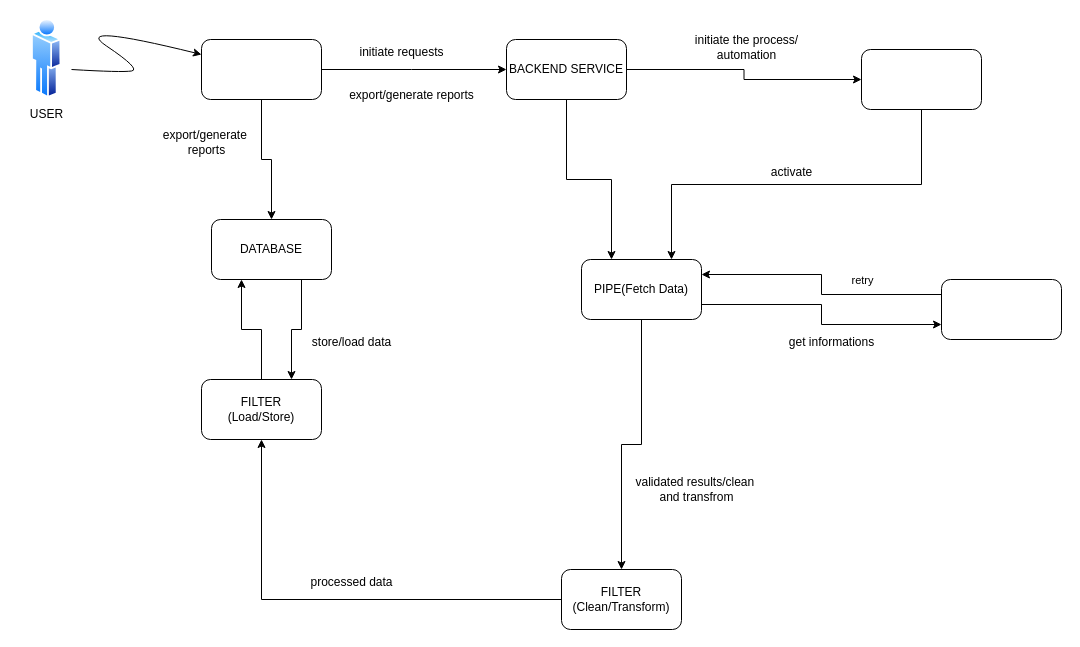
Some shapes in this 1080 by 647 pixel diagram are drawn without their labels. The box of each missing label's shape, as (x1, y1, x2, y2) in pixels:
API DATA SOURCES: (940, 278, 1062, 340)
SHEDULER: (860, 48, 982, 110)
WEB UI: (200, 38, 322, 100)
